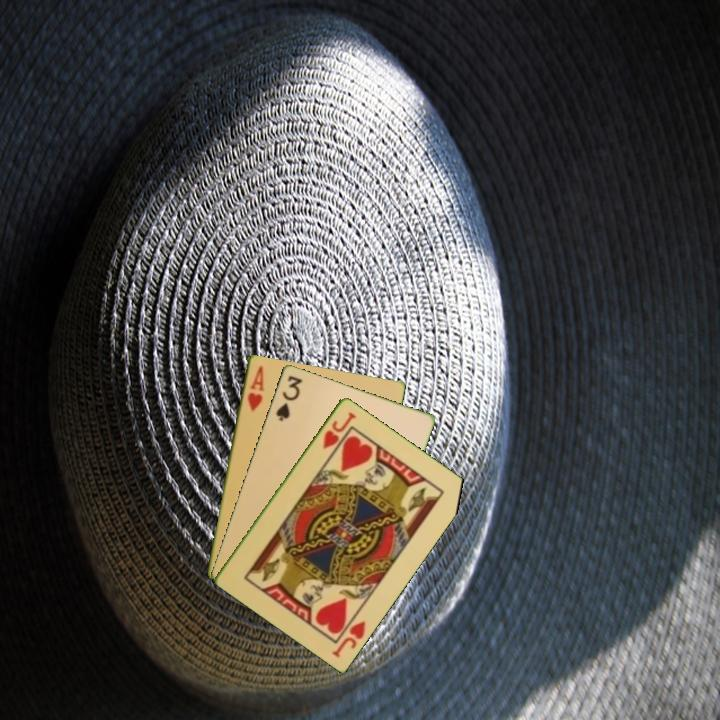3s: (272, 372, 305, 424)
Ah: (244, 362, 267, 415)
Jh: (319, 408, 359, 452), (328, 616, 368, 660)
